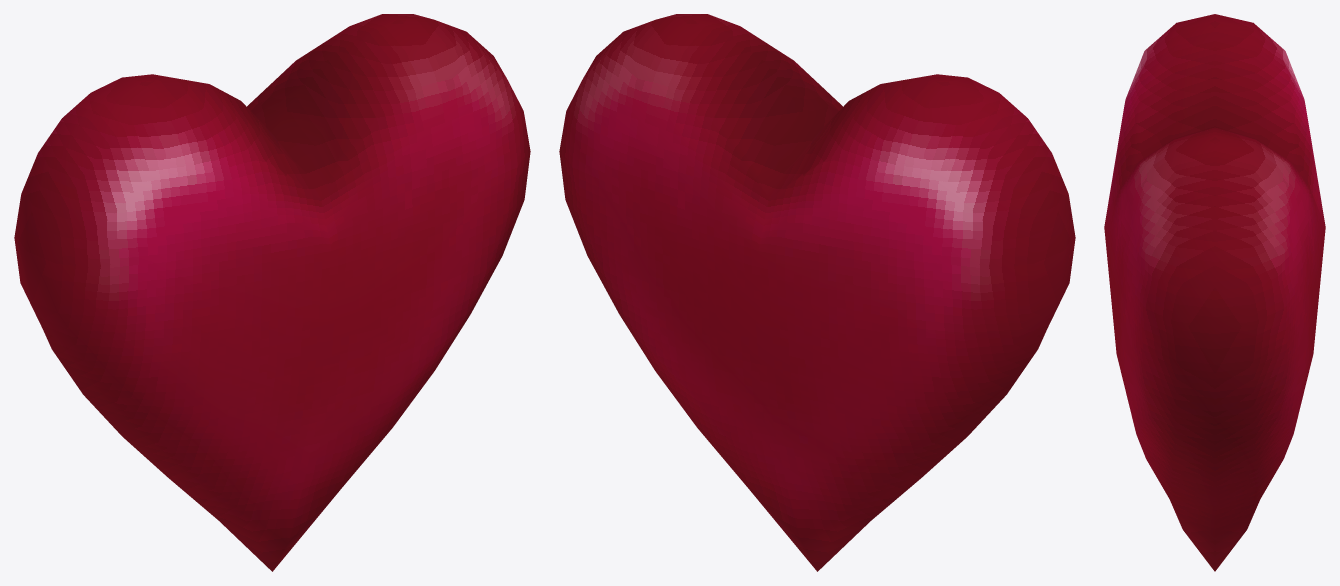
3 renders of one model, left to right at view 1: azimuth 30°, elevation 25°; view 2: azimuth 150°, elevation 25°; view 3: azimuth 270°, elevation 25°, orthographic. The views are drawn at different scales.
Parts seen in each view (by area): view 1: heart; view 2: heart; view 3: heart.
Part boxes in pixels (left/top/right/bottom): heart: left=14, top=14, right=530, bottom=571; heart: left=559, top=14, right=1075, bottom=571; heart: left=1104, top=14, right=1325, bottom=571.
Size of the model in its own units: 151 by 153 by 62.35.
1 material, 1 textured.
